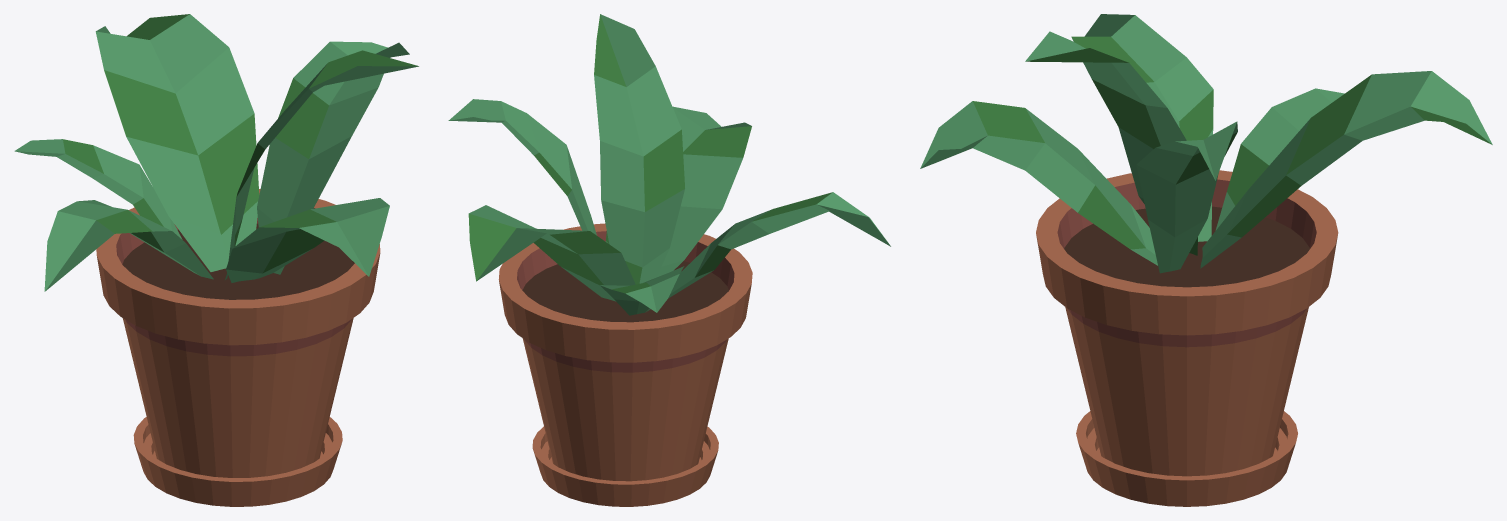
File: leafplant.fbx
3 renders of one model, left to right at view 1: azimuth 30°, elevation 25°; view 2: azimuth 150°, elevation 25°; view 3: azimuth 270°, elevation 25°, orthographic. The views are drawn at different scales.
Visible parts, largest first — view 1: Cylinder; view 2: Cylinder; view 3: Cylinder.
Boxes of the visible parts, x1,y1,x2,y2 form: Cylinder: (14, 14, 418, 506); Cylinder: (448, 14, 890, 506); Cylinder: (920, 14, 1492, 506).
Bounding box in the file's own units: 61.95 × 59.67 × 67.2.
